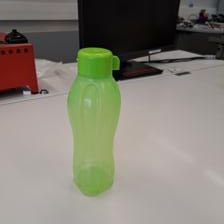bottle: (66, 45, 121, 195)
